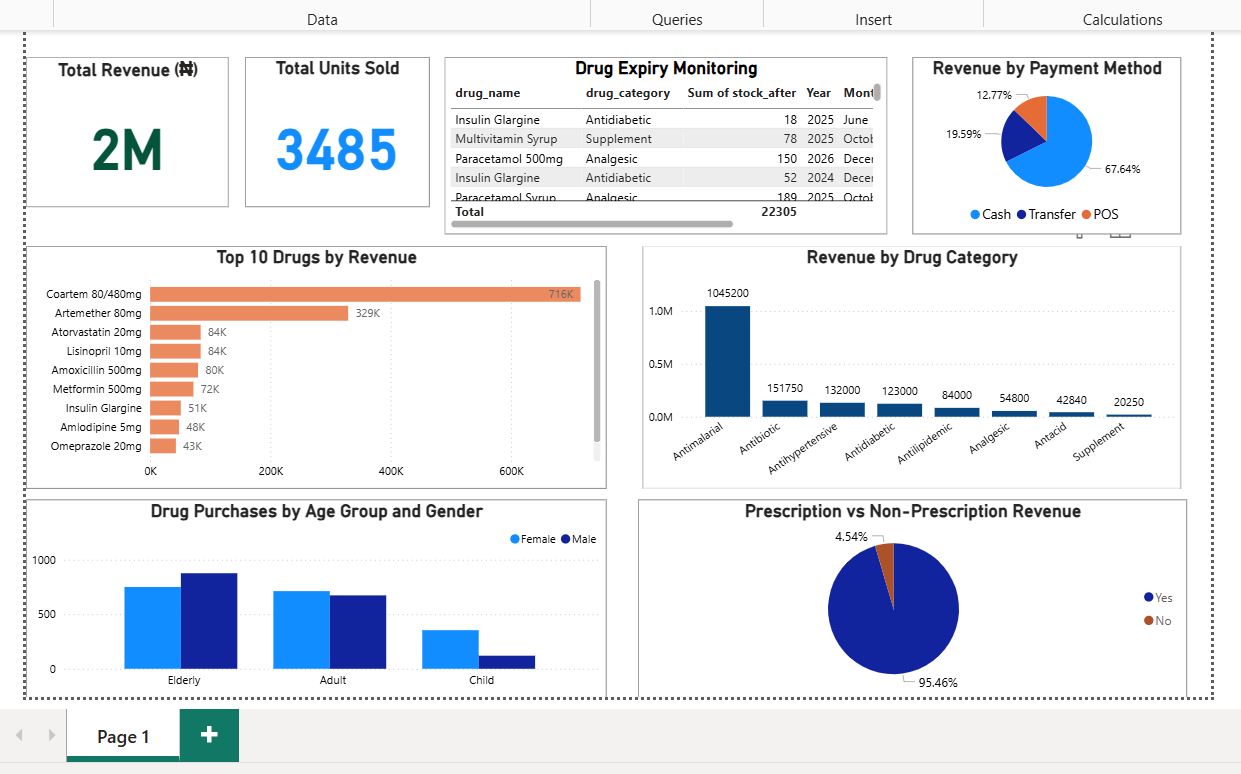

The dashboard page shown, as its layout file describes it:
{"tool":"powerbi","page":{"name":"Page 1","canvas":[1280,720],"ordinal":0},"visuals":[{"type":"card","title":"Total Revenue (₦)","fields":{"Values":["Sum(pharmacy_sales_nigeria.total_revenue_naira)"]},"box":[0,29.1,218.6,161.9],"z":0},{"type":"card","title":"Total Units Sold","fields":{"Values":["Sum(pharmacy_sales_nigeria.quantity_sold)"]},"box":[236.4,29.1,199.2,161.9],"z":1000},{"type":"clusteredBarChart","title":"Top 10 Drugs by Revenue","fields":{"Category":["pharmacy_sales_nigeria.drug_name"],"Y":["Sum(pharmacy_sales_nigeria.total_revenue_naira)"]},"box":[0,233.2,626.6,262.3],"z":2000},{"type":"clusteredColumnChart","title":"Revenue by Drug Category","fields":{"Category":["pharmacy_sales_nigeria.drug_category"],"Y":["Sum(pharmacy_sales_nigeria.total_revenue_naira)"]},"box":[665.5,233.2,581.3,262.3],"z":3000},{"type":"tableEx","title":"Drug Expiry Monitoring","fields":{"Values":["pharmacy_sales_nigeria.drug_name","pharmacy_sales_nigeria.drug_category","Sum(pharmacy_sales_nigeria.stock_after)","pharmacy_sales_nigeria.expiry_date.Variation.Date Hierarchy.Year","pharmacy_sales_nigeria.expiry_date.Variation.Date Hierarchy.Month","pharmacy_sales_nigeria.expiry_date.Variation.Date Hierarchy.Day","Sum(pharmacy_sales_nigeria.days_to_expiry)"]},"box":[451.8,29.1,477.7,191.1],"z":4000},{"type":"pieChart","title":"Revenue by Payment Method","fields":{"Category":["pharmacy_sales_nigeria.payment_method"],"Y":["Sum(pharmacy_sales_nigeria.total_revenue_naira)"]},"box":[957,29.1,289.8,191.1],"z":5000},{"type":"clusteredColumnChart","title":"Drug Purchases by Age Group and Gender","fields":{"Category":["pharmacy_sales_nigeria.patient_age_group"],"Series":["pharmacy_sales_nigeria.patient_gender"],"Y":["Sum(pharmacy_sales_nigeria.quantity_sold)"]},"box":[0,506.8,626.6,213.7],"z":6000},{"type":"pieChart","title":"Prescription vs Non-Prescription Revenue","fields":{"Category":["pharmacy_sales_nigeria.prescription_required"],"Y":["Sum(pharmacy_sales_nigeria.total_revenue_naira)"]},"box":[660.6,506.8,592.6,213.7],"z":7000}]}

Visuals, with their boxes in screenshot pixels (x1, y1, x2, y2):
"Total Revenue (₦)" card: [left=19, top=59, right=221, bottom=208]
"Total Units Sold" card: [left=237, top=59, right=421, bottom=208]
"Top 10 Drugs by Revenue" clusteredBarChart: [left=19, top=247, right=597, bottom=489]
"Revenue by Drug Category" clusteredColumnChart: [left=633, top=247, right=1169, bottom=489]
"Drug Expiry Monitoring" tableEx: [left=436, top=59, right=877, bottom=235]
"Revenue by Payment Method" pieChart: [left=902, top=59, right=1169, bottom=235]
"Drug Purchases by Age Group and Gender" clusteredColumnChart: [left=19, top=500, right=597, bottom=697]
"Prescription vs Non-Prescription Revenue" pieChart: [left=629, top=500, right=1175, bottom=697]
